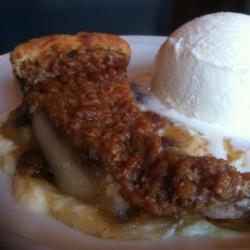apple_pie: (9, 33, 174, 228)
icecream: (151, 11, 250, 134)
